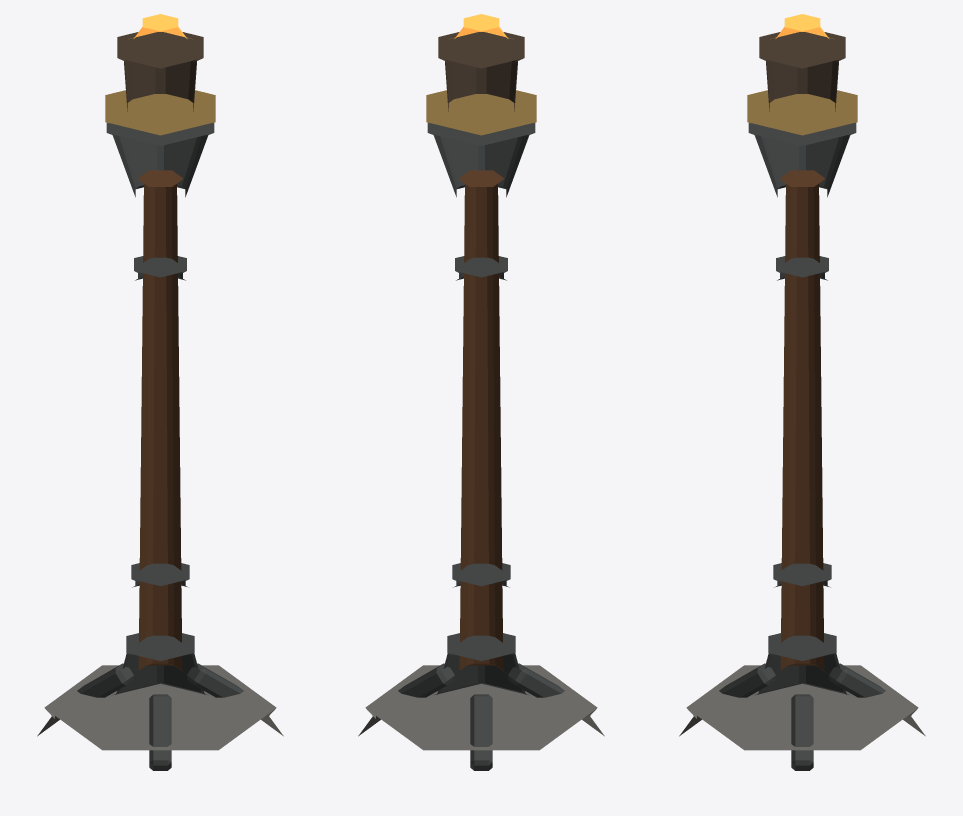
The model's file is standing_torch.glb.
The picture shows the model from 3 angles, left to right: view 1: azimuth 30°, elevation 25°; view 2: azimuth 150°, elevation 25°; view 3: azimuth 270°, elevation 25°; orthographic projection.
Visible parts, largest first — view 1: standing_pole, standing_ironwork, standing_base_stone, standing_head, standing_brass_rim, standing_embers; view 2: standing_pole, standing_ironwork, standing_base_stone, standing_head, standing_brass_rim, standing_embers; view 3: standing_pole, standing_ironwork, standing_base_stone, standing_head, standing_brass_rim, standing_embers.
Part boxes in pixels (left/top/right/bottom): standing_pole: left=135, top=170, right=185, bottom=673; standing_ironwork: left=77, top=123, right=243, bottom=770; standing_base_stone: left=37, top=665, right=283, bottom=750; standing_head: left=117, top=32, right=203, bottom=111; standing_brass_rim: left=105, top=90, right=215, bottom=135; standing_embers: left=133, top=14, right=187, bottom=38; standing_pole: left=456, top=170, right=506, bottom=673; standing_ironwork: left=398, top=123, right=564, bottom=770; standing_base_stone: left=358, top=665, right=604, bottom=750; standing_head: left=438, top=32, right=524, bottom=111; standing_brass_rim: left=426, top=90, right=536, bottom=135; standing_embers: left=454, top=14, right=508, bottom=38; standing_pole: left=777, top=170, right=827, bottom=673; standing_ironwork: left=719, top=123, right=885, bottom=770; standing_base_stone: left=679, top=665, right=925, bottom=750; standing_head: left=759, top=32, right=845, bottom=111; standing_brass_rim: left=747, top=90, right=857, bottom=135; standing_embers: left=775, top=14, right=829, bottom=38.
Bounding box in the file's own units: 0.5077 × 1.6 × 0.5862.
